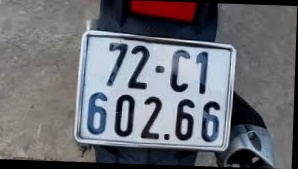Bien-so: (79, 29, 247, 153)
